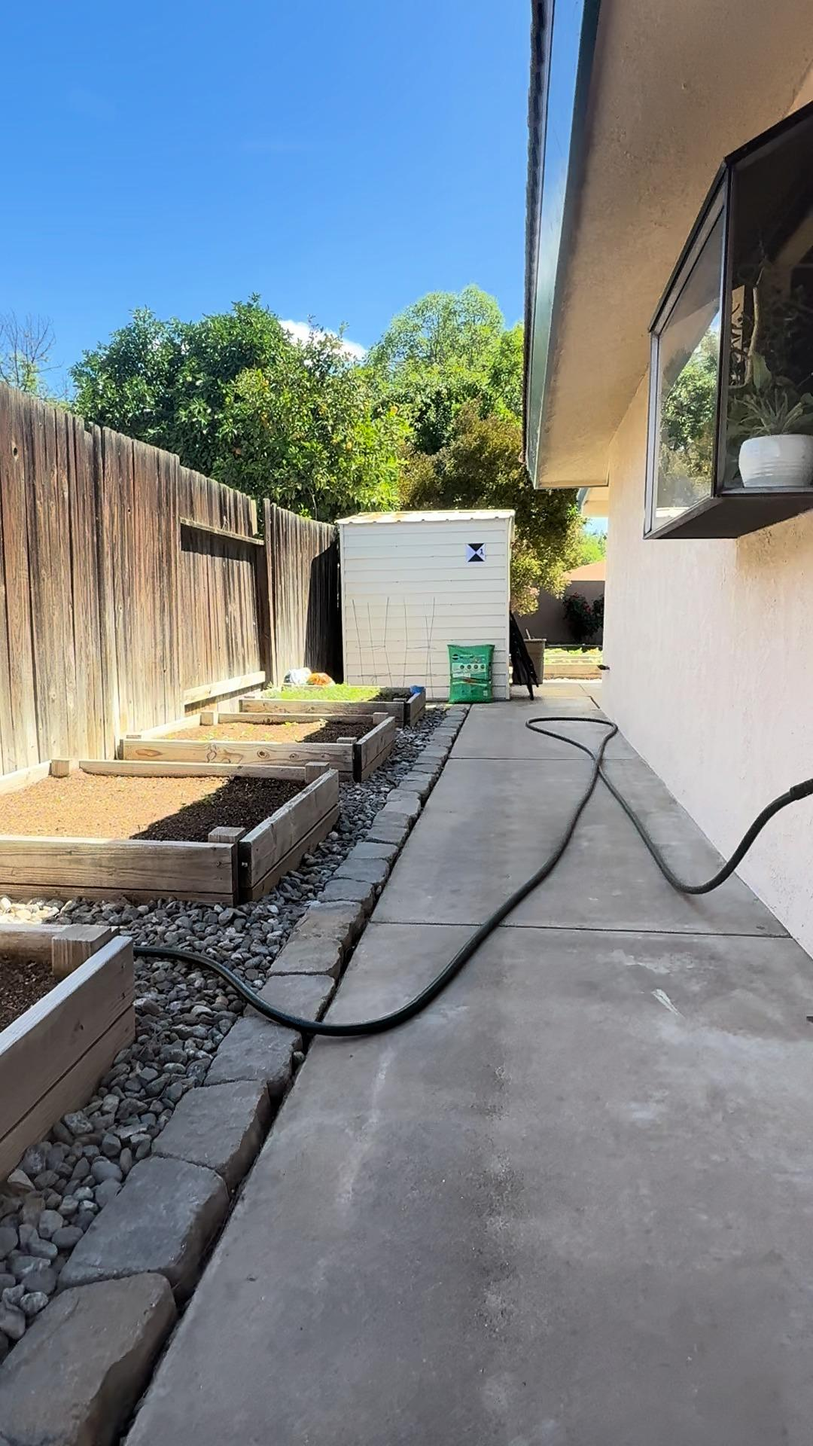target1: (464, 542, 487, 563)
